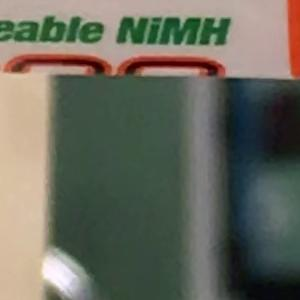keyword: (106, 6, 241, 56)
